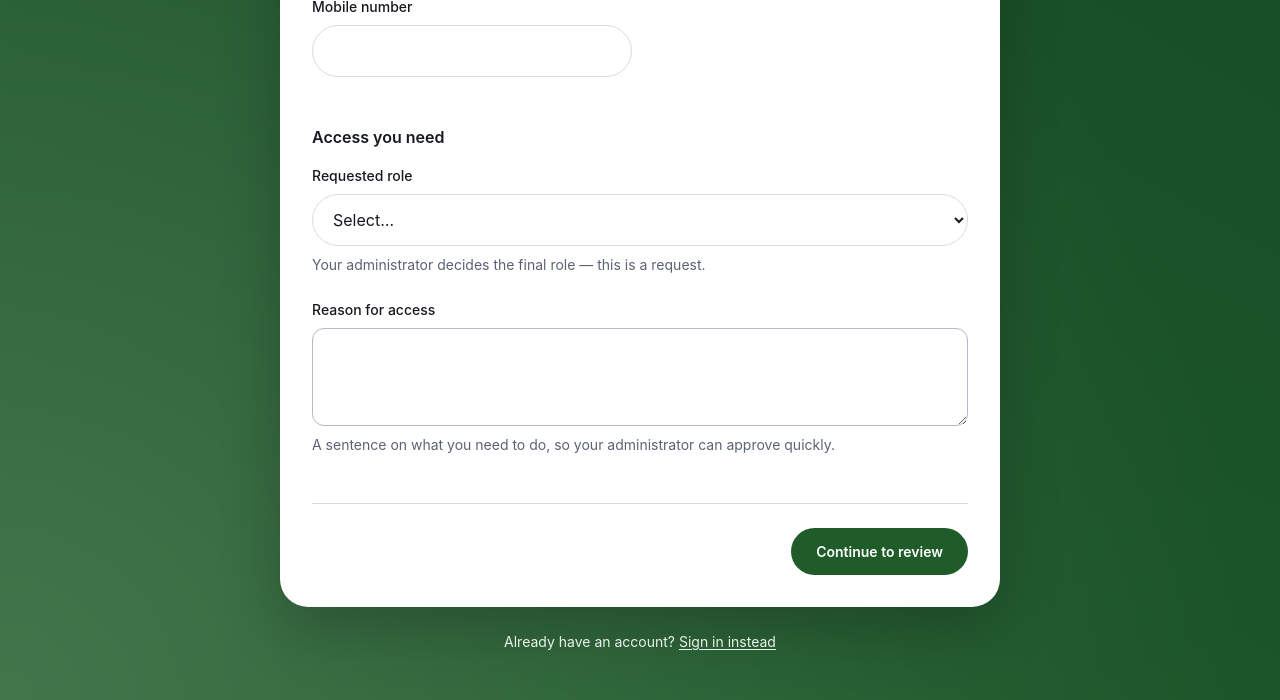
JoinBusinessPage › blocks progress and reports every invalid field
(page scrolled)
Click the button "Continue to review": (880, 552) [791, 528, 968, 575]
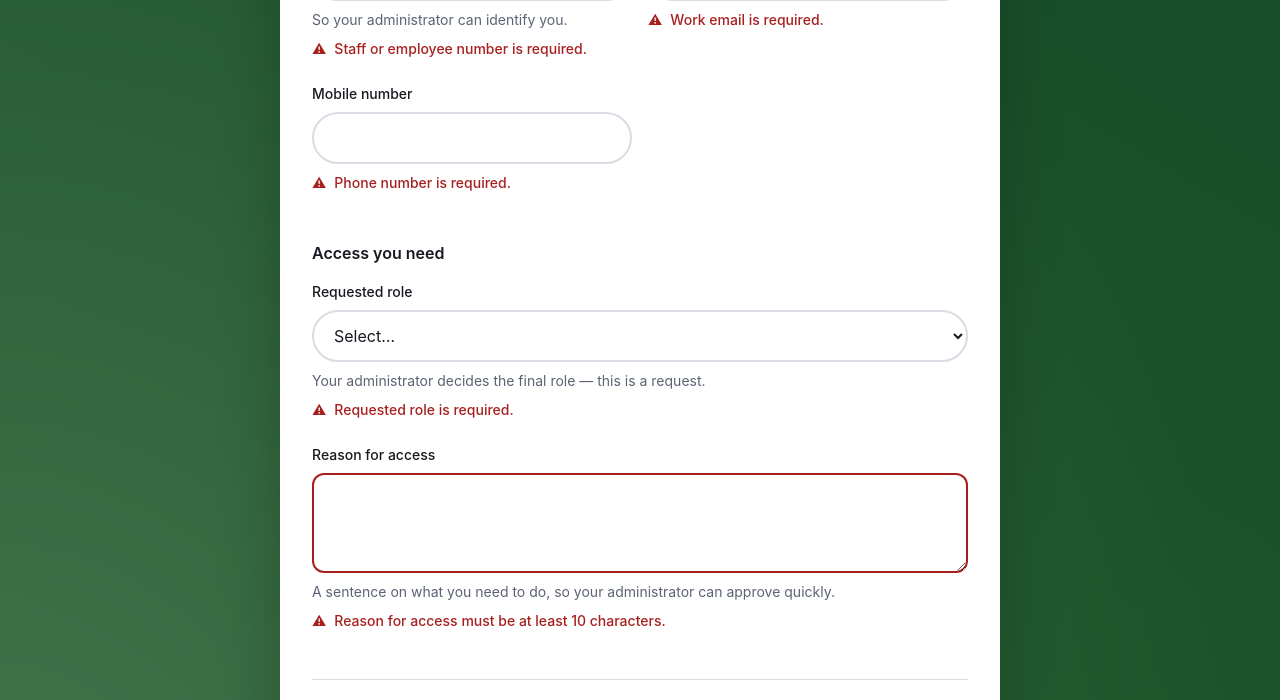
Expected: the text "Work email is required." is shown, [670, 9, 824, 30]
